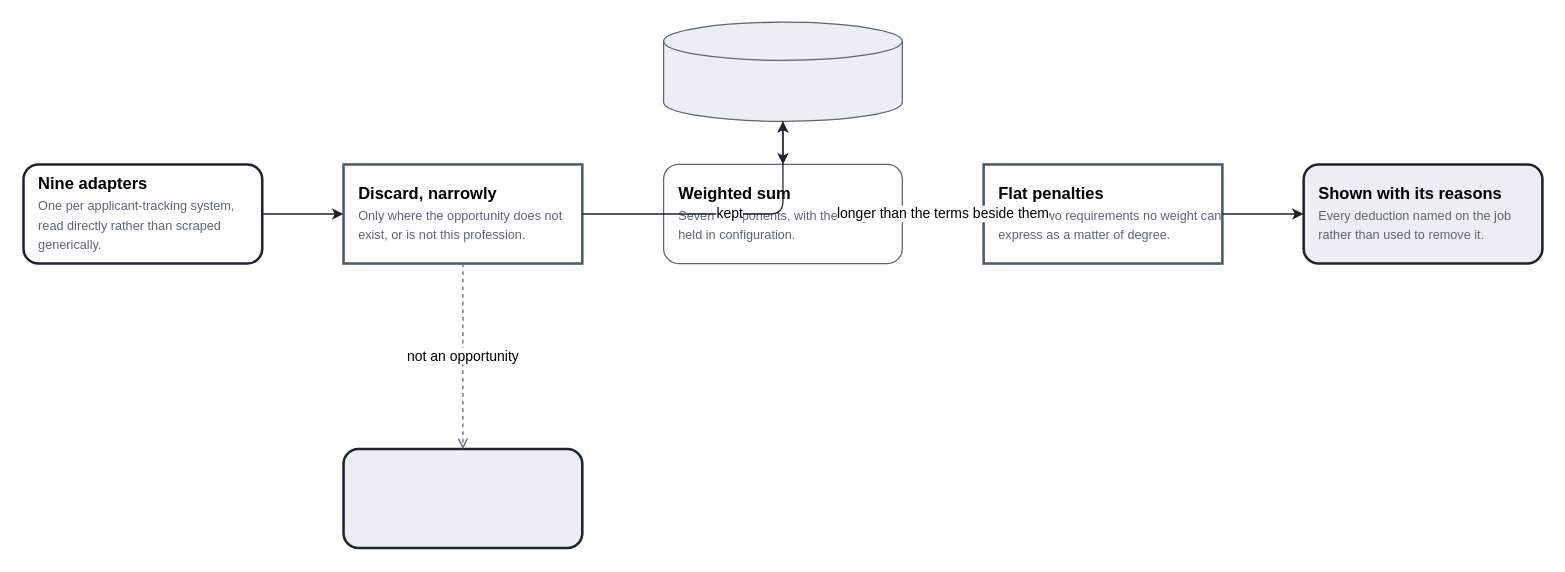
Image size: 1565x572. Some labels were removed from this diagram. The centre of each missing label's shape, as x and y in pixels:
Not a posting The only thing removed outright rather than ranked down.: pixel 462 498
Postings Kept with their enrichment, so a score can be recomputed.: pixel 782 71
